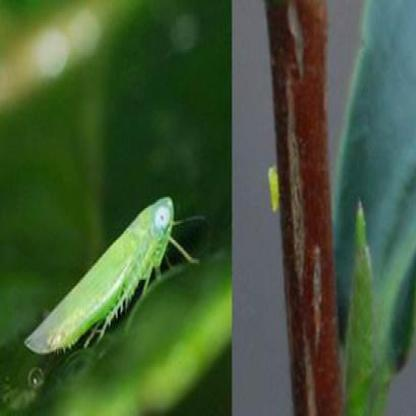Green-Leafhopper: (24, 194, 210, 360)
